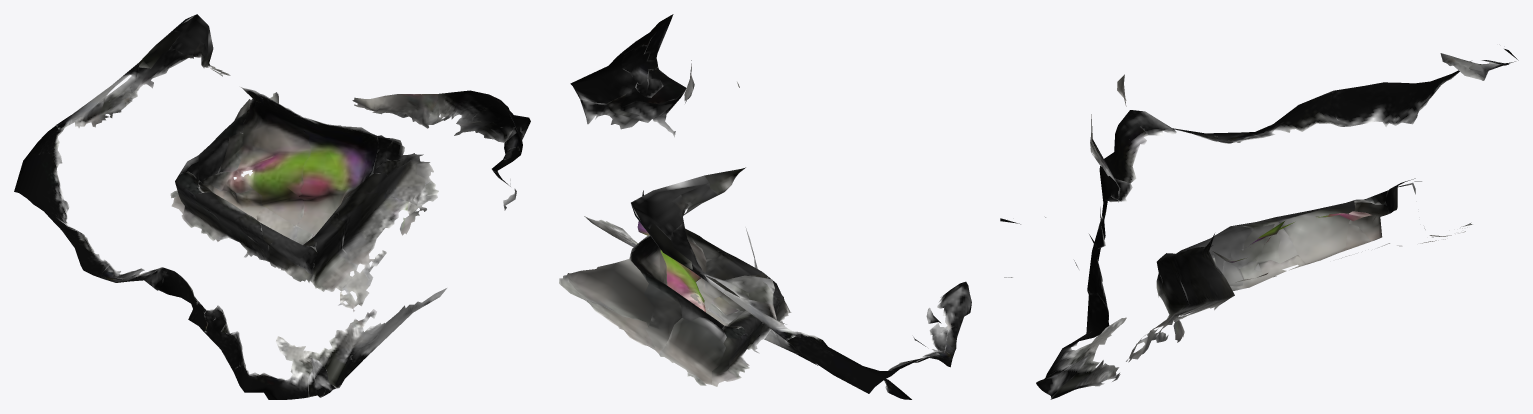
Rendered from hall.glb.
3 views of the same model, side by side, from view 1: azimuth 30°, elevation 25°; view 2: azimuth 150°, elevation 25°; view 3: azimuth 270°, elevation 25° (orthographic). The views are drawn at different scales.
Size of the model in its own units: 1.01 by 0.6453 by 0.8277.
1 material, 1 textured.
